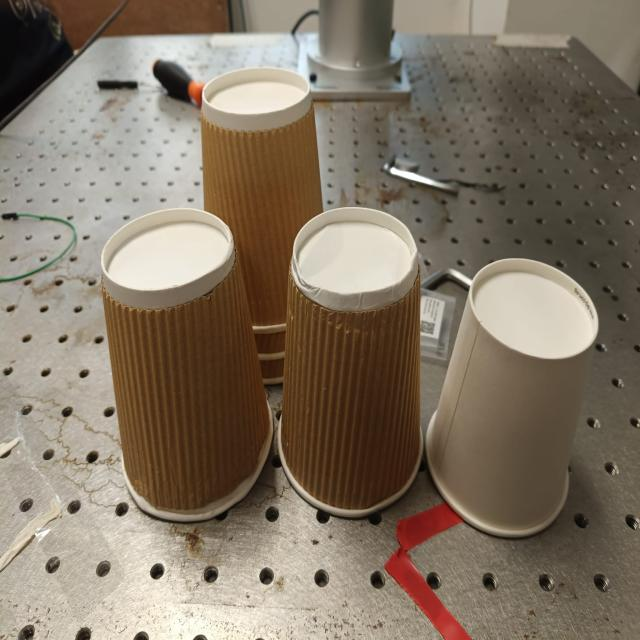Browncup: (101, 208, 273, 521), (278, 208, 423, 516), (201, 68, 322, 325), (255, 331, 286, 354), (260, 356, 285, 381)
Whitecup: (425, 258, 598, 537)
